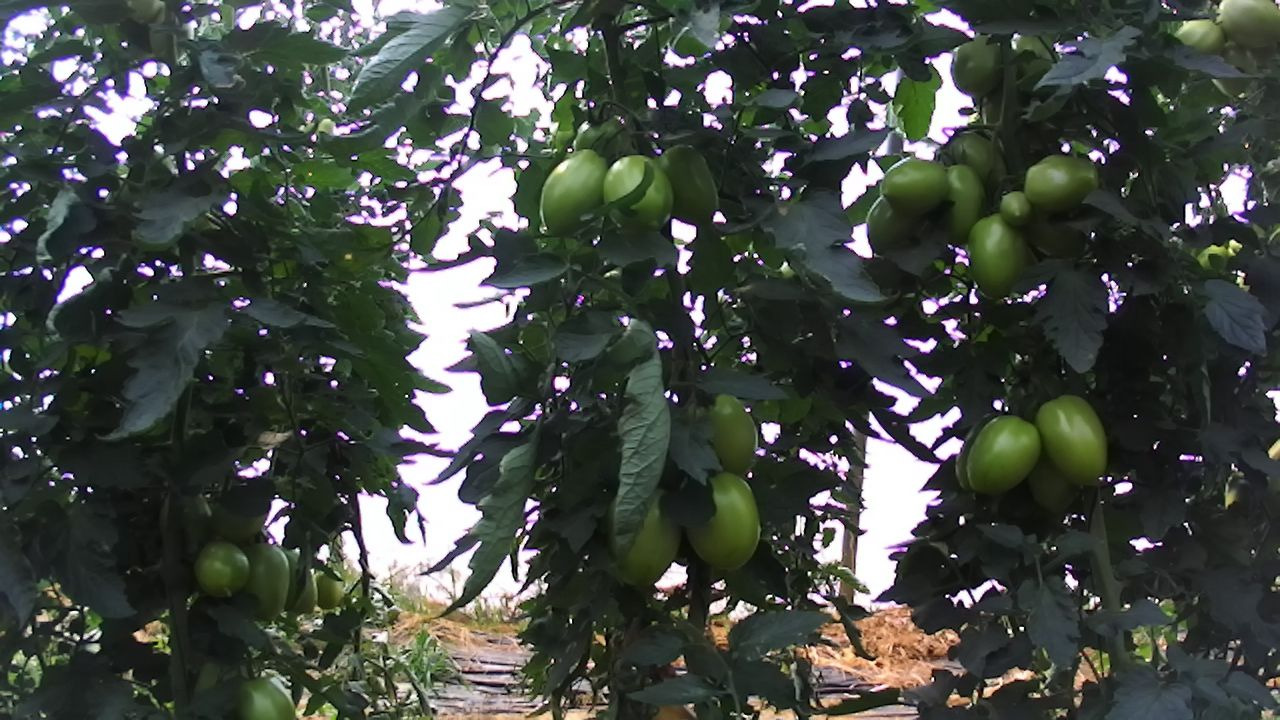tomato: (602, 477, 687, 594), (681, 469, 765, 580), (594, 146, 682, 241), (1030, 388, 1109, 489), (964, 410, 1045, 500), (534, 145, 610, 238), (695, 387, 766, 484), (929, 155, 993, 253), (963, 209, 1030, 302), (655, 140, 719, 226), (1019, 151, 1103, 211), (877, 153, 950, 219), (860, 188, 923, 257), (190, 538, 254, 603), (243, 540, 292, 621), (947, 32, 1007, 98), (1213, 0, 1280, 52), (234, 671, 298, 720), (997, 187, 1036, 230), (314, 569, 346, 611)
